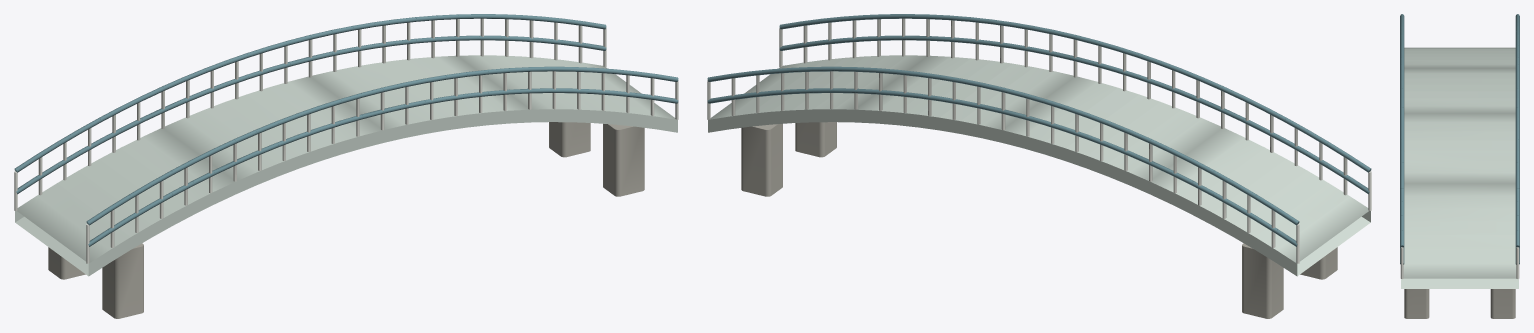
File: arched-bridge.glb
3 views of the same model, side by side, from view 1: azimuth 30°, elevation 25°; view 2: azimuth 150°, elevation 25°; view 3: azimuth 270°, elevation 25° (orthographic). The views are drawn at different scales.
Visible parts, largest first — view 1: arched pale bridge deck, curved bridge railing, bridge abutment, bridge baluster; view 2: arched pale bridge deck, curved bridge railing, bridge abutment, bridge baluster; view 3: arched pale bridge deck, curved bridge railing, bridge abutment, bridge baluster.
Boxes of the visible parts, left/top/right/bottom form: arched pale bridge deck: left=15, top=55, right=677, bottom=276; curved bridge railing: left=14, top=14, right=678, bottom=246; bridge abutment: left=48, top=122, right=644, bottom=318; bridge baluster: left=14, top=18, right=678, bottom=263; arched pale bridge deck: left=708, top=55, right=1370, bottom=276; curved bridge railing: left=707, top=14, right=1371, bottom=246; bridge abutment: left=741, top=122, right=1337, bottom=318; bridge baluster: left=707, top=18, right=1371, bottom=263; arched pale bridge deck: left=1401, top=47, right=1518, bottom=288; curved bridge railing: left=1400, top=14, right=1519, bottom=264; bridge abutment: left=1404, top=289, right=1515, bottom=318; bridge baluster: left=1400, top=247, right=1519, bottom=278.
Bounding box in the file's own units: 12.06 × 3.27 × 2.63.
